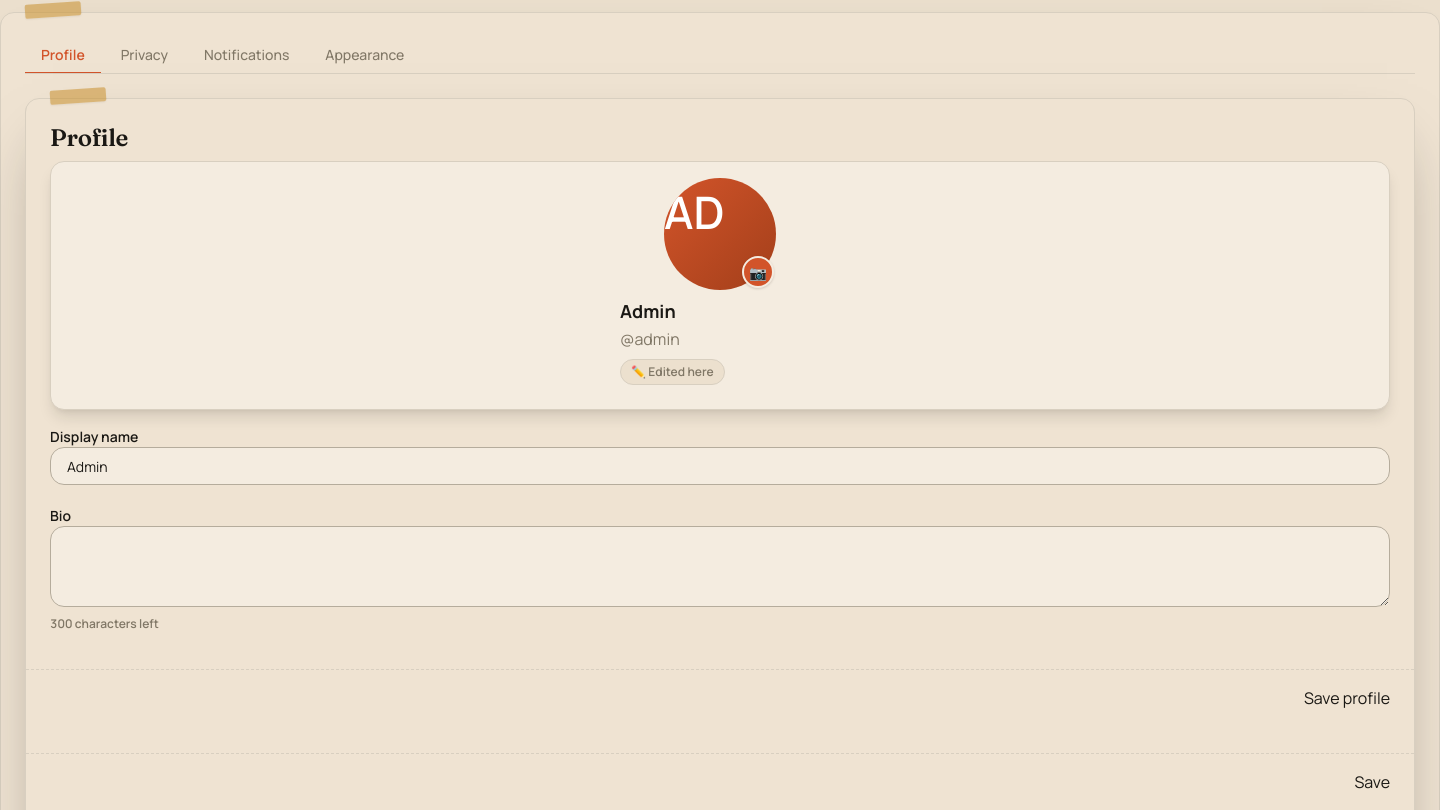
Test: SidebarVisibilityPanel › renders three checkboxes for Highlights, Momentum, and Bazaar
Click the tab "Privacy": (144, 56) [105, 37, 184, 74]
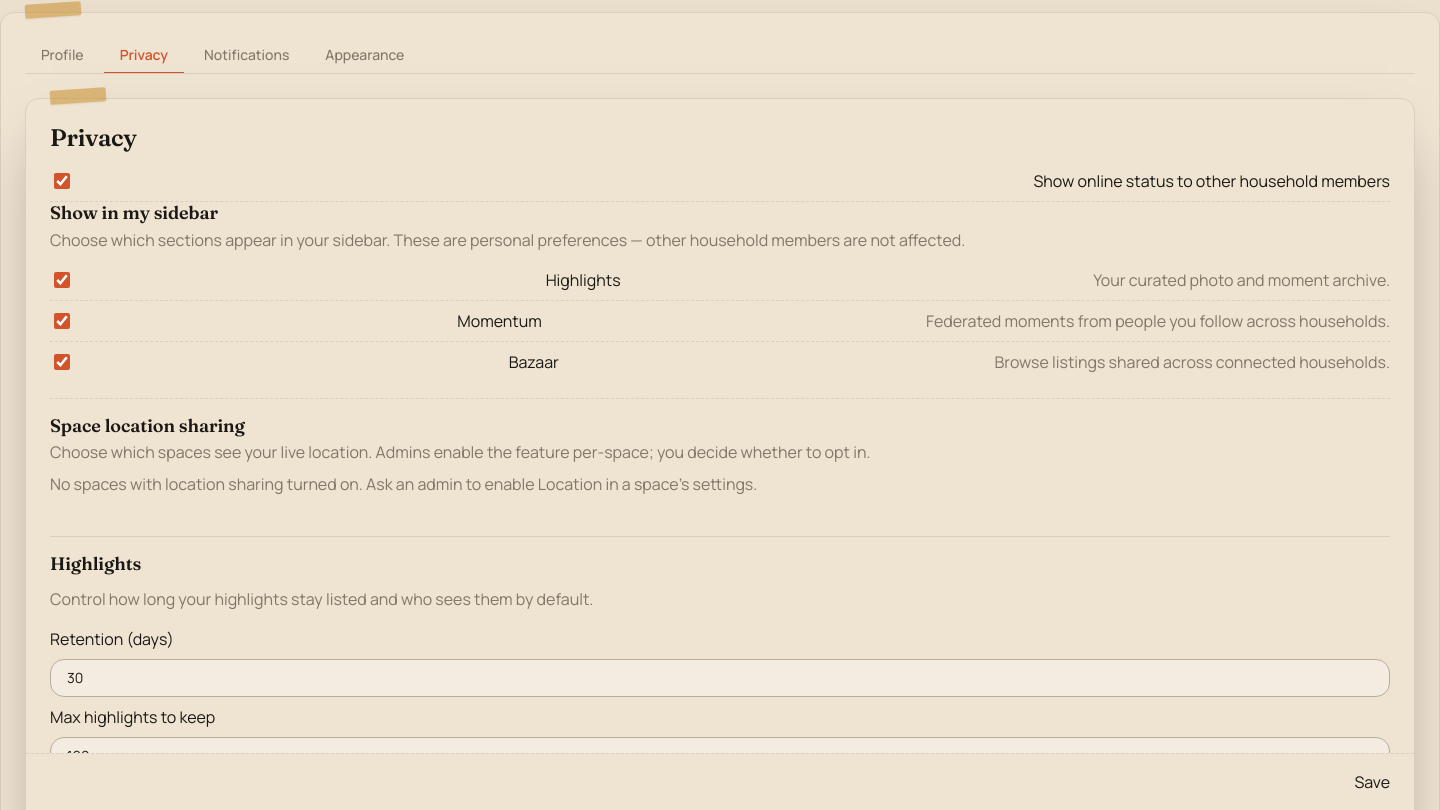
Now the element with id "sidebar-visibility" is shown, box [50, 202, 1390, 398]
